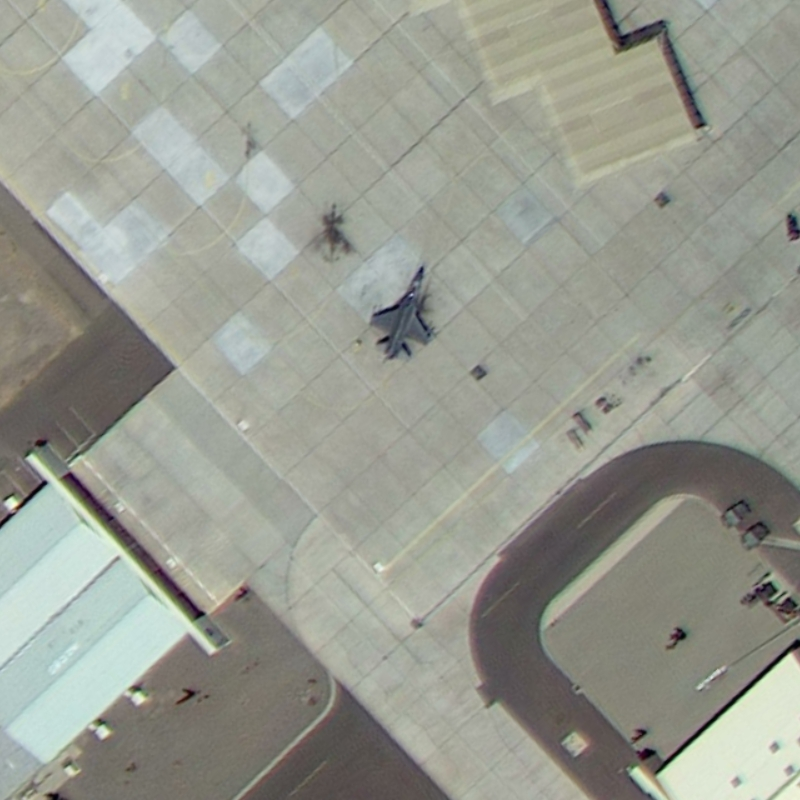A5: (360, 261, 437, 366)
